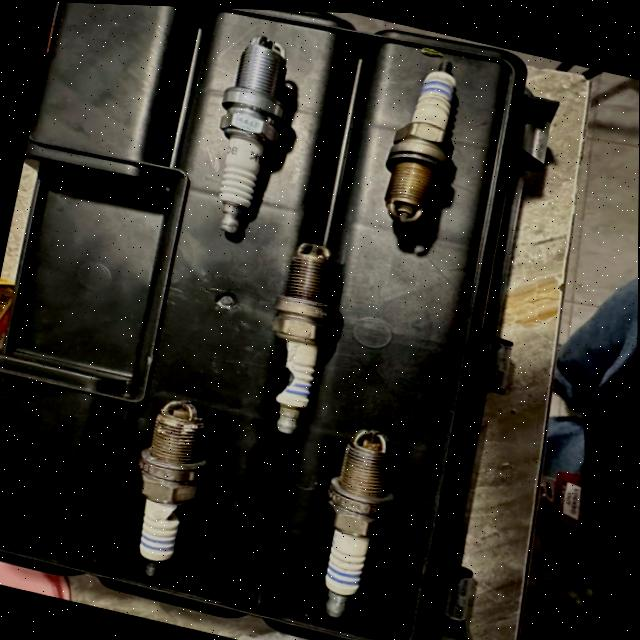damaged_spark-plug: (254, 236, 351, 433), (126, 395, 221, 579)
spark-plug: (195, 17, 304, 247), (301, 415, 407, 625), (378, 45, 481, 234)
